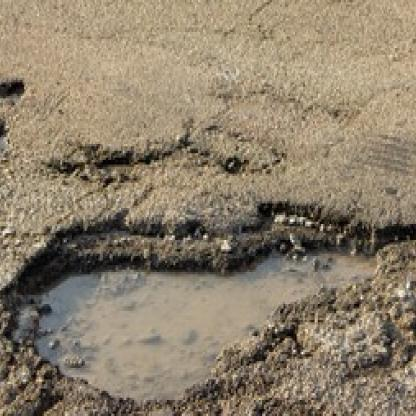pothole: (0, 199, 394, 414), (44, 144, 155, 185), (0, 73, 26, 110), (0, 119, 11, 169)
